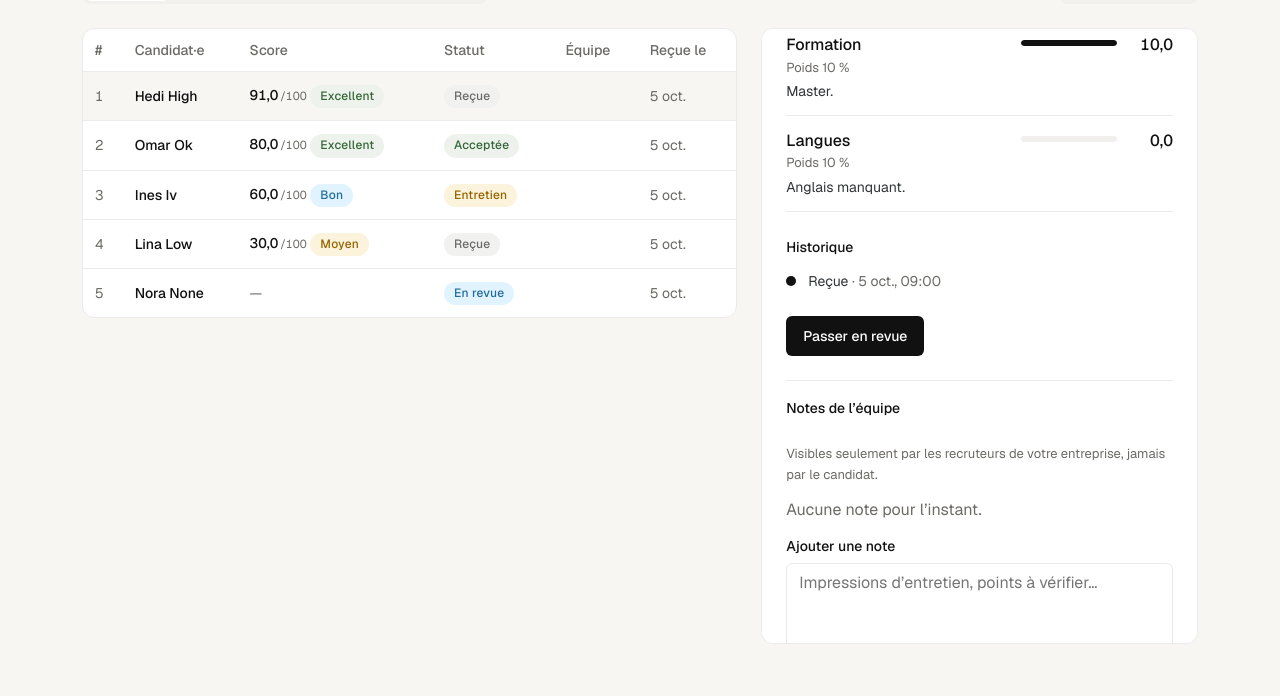
Test: status changes › shows the API message when the transition is refused (400)
(page scrolled)
Click the button "Passer en revue" at (855, 336), box x1=786 y1=316 x2=924 y2=356
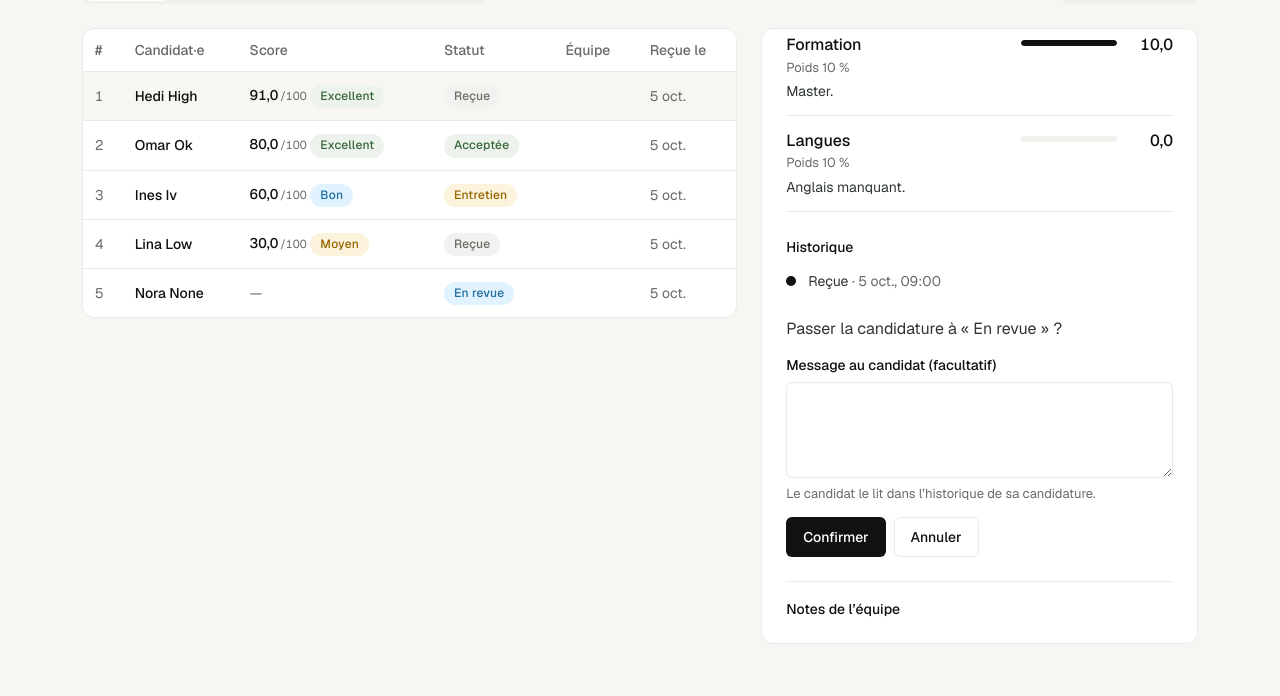
Click the button "Confirmer" at (836, 537), box x1=786 y1=517 x2=886 y2=557
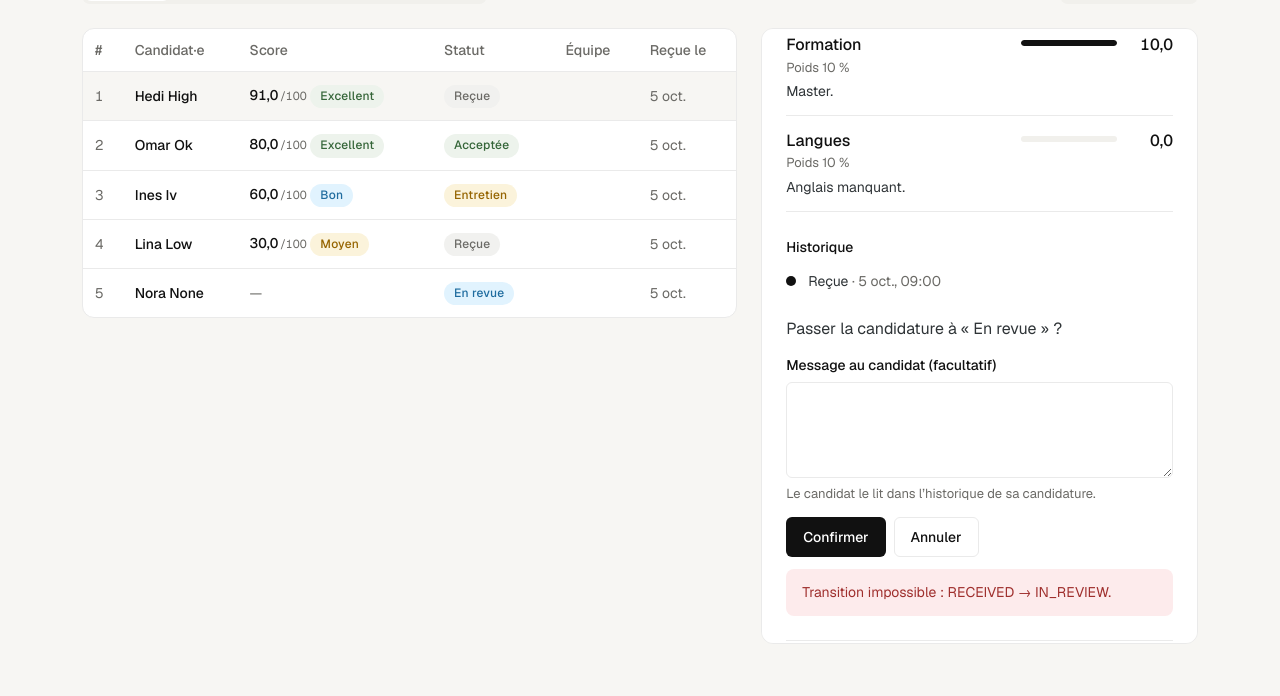
expect the message shows "Transition impossible": met, box x1=802 y1=583 x2=1111 y2=601
